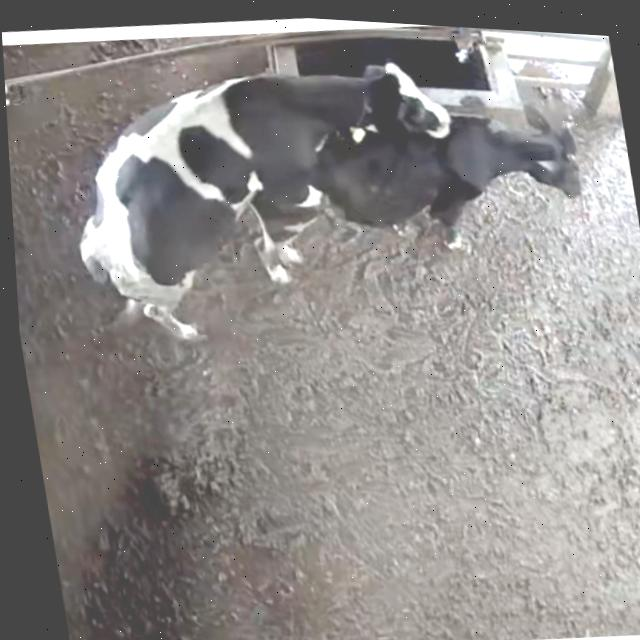ride: (31, 16, 497, 417)
